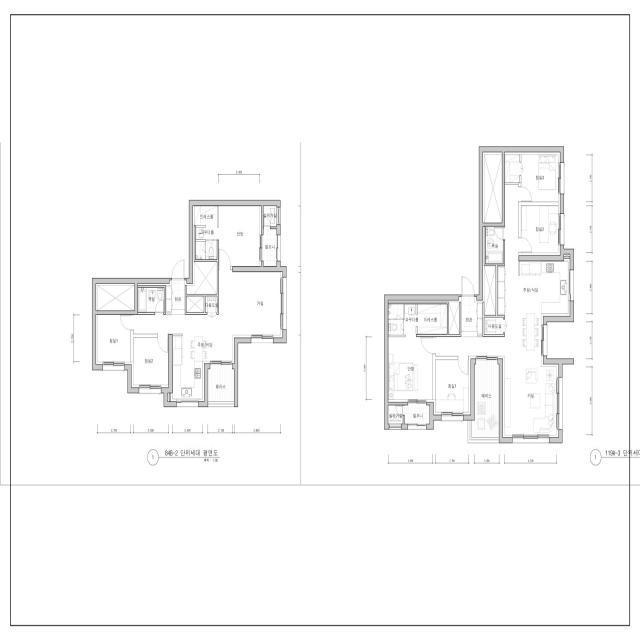space_balconi: (208, 365, 234, 402), (262, 229, 277, 266), (405, 404, 430, 424)
space_bedroom: (388, 337, 433, 402), (505, 152, 560, 202), (218, 206, 261, 266), (434, 360, 471, 415), (521, 206, 560, 256), (132, 338, 168, 388), (96, 315, 131, 365)
space_dressroom: (405, 304, 447, 335), (193, 206, 217, 240)
space_front: (460, 297, 483, 337), (166, 280, 187, 315)
space_kitchen: (520, 259, 570, 359), (171, 336, 234, 402)
space_living_room: (435, 185, 558, 438), (133, 272, 282, 338)
space_multipurpose_space: (484, 317, 503, 334), (205, 296, 217, 312)
space_other: (483, 152, 502, 223), (96, 284, 134, 311), (187, 262, 217, 294), (483, 266, 496, 315), (449, 300, 460, 335), (186, 296, 204, 312), (564, 254, 570, 257), (168, 393, 169, 402)
space_outdoor_room: (263, 206, 277, 227), (388, 405, 403, 424)
space_toilet: (138, 287, 164, 312), (486, 227, 503, 264), (388, 304, 403, 335), (196, 240, 217, 260)
